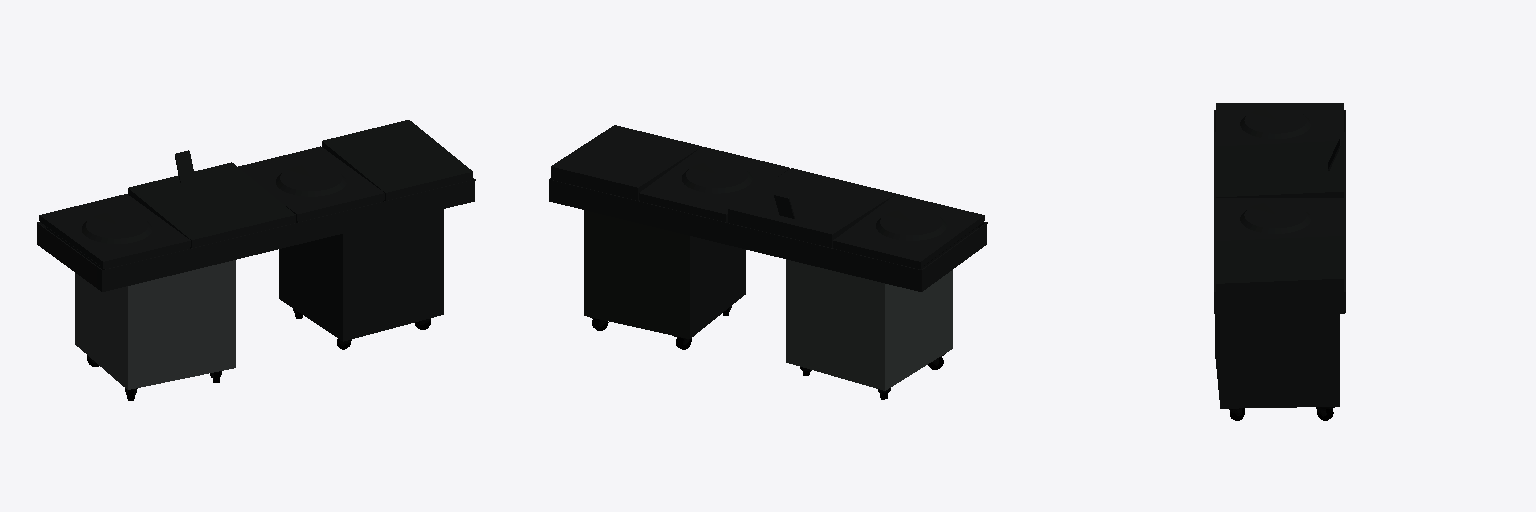
Rendered from dj_set.obj.
3 renders of one model, left to right at view 1: azimuth 30°, elevation 25°; view 2: azimuth 150°, elevation 25°; view 3: azimuth 270°, elevation 25°, orthographic.
Parts seen in each view (by area): view 1: Fly_sol.001, Fly_sol, Fly_DJ, Iphone_module, Mix_Module, Disc_Module, Plane.003; view 2: Fly_sol, Fly_sol.001, Fly_DJ, Iphone_module, Disc_Module, Mix_Module, Plane.003; view 3: Fly_sol.001, Iphone_module, Mix_Module, Disc_Module, Plane.003, Fly_DJ.
Part boxes in pixels (bbox=[...]): Fly_sol.001: bbox=[279, 209, 443, 349]; Fly_sol: bbox=[75, 260, 235, 400]; Fly_DJ: bbox=[37, 178, 475, 291]; Iphone_module: bbox=[128, 150, 295, 248]; Mix_Module: bbox=[322, 120, 472, 201]; Disc_Module: bbox=[39, 194, 190, 269]; Plane.003: bbox=[238, 146, 384, 222]; Fly_sol: bbox=[786, 259, 952, 399]; Fly_sol.001: bbox=[584, 210, 745, 349]; Fly_DJ: bbox=[549, 178, 987, 291]; Iphone_module: bbox=[728, 168, 895, 248]; Disc_Module: bbox=[833, 194, 984, 269]; Mix_Module: bbox=[551, 125, 701, 200]; Plane.003: bbox=[639, 147, 789, 222]; Fly_sol.001: bbox=[1215, 314, 1339, 420]; Iphone_module: bbox=[1216, 139, 1343, 197]; Mix_Module: bbox=[1216, 236, 1343, 291]; Disc_Module: bbox=[1216, 103, 1343, 145]; Plane.003: bbox=[1216, 198, 1343, 240]; Fly_DJ: bbox=[1214, 110, 1345, 313].
Bounding box in the file's own units: 2.22 × 1.06 × 0.679.